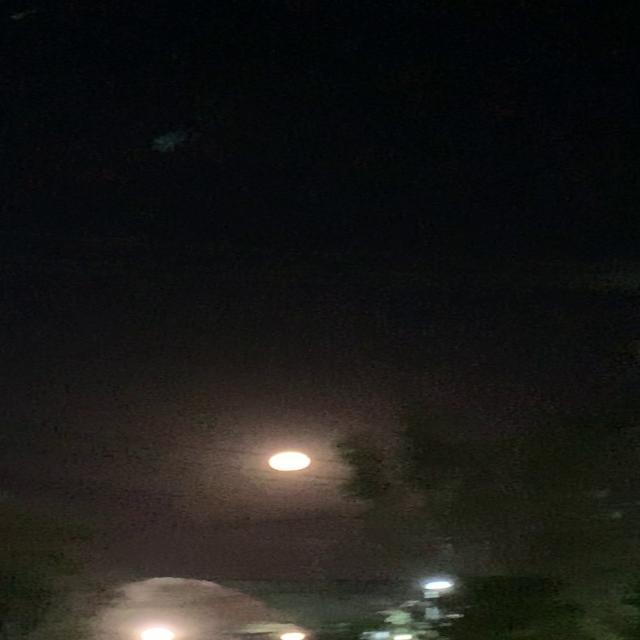moon: (274, 450, 327, 474)
